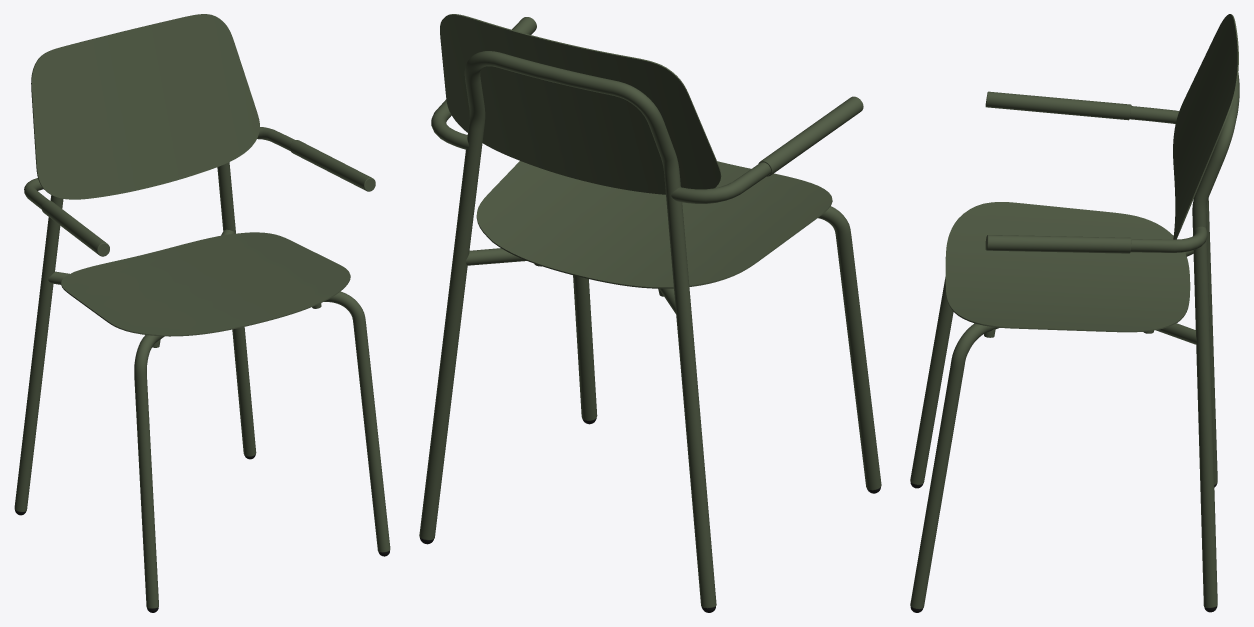
The model's file is element-arm.glb.
The picture shows the model from 3 angles, left to right: view 1: azimuth 30°, elevation 25°; view 2: azimuth 150°, elevation 25°; view 3: azimuth 270°, elevation 25°; orthographic projection. The views are drawn at different scales.
Parts seen in each view (by area): view 1: rb_chair_element; view 2: rb_chair_element; view 3: rb_chair_element.
Boxes of the visible parts, x1,y1,x2,y2 form: rb_chair_element: (14, 14, 390, 612); rb_chair_element: (419, 14, 881, 612); rb_chair_element: (910, 14, 1239, 612).
Bounding box in the file's own units: 0.5373 × 0.8238 × 0.499.
